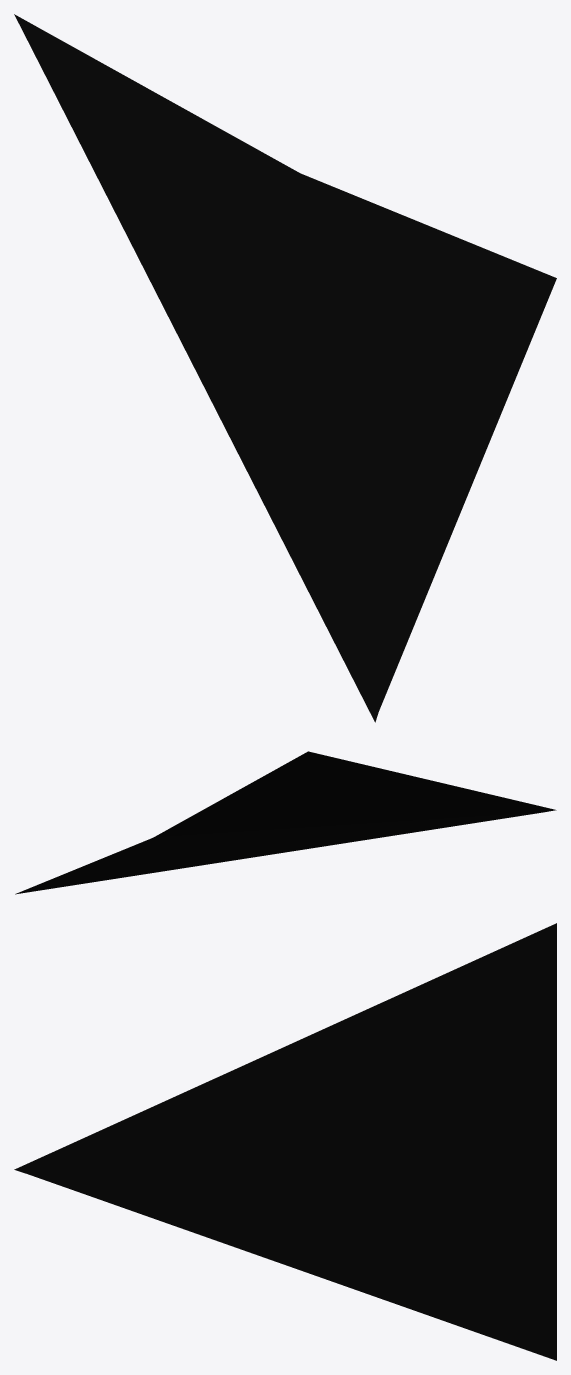
3 views of the same model, one above another, from view 1: azimuth 30°, elevation 25°; view 2: azimuth 150°, elevation 25°; view 3: azimuth 270°, elevation 25° (orthographic). The views are drawn at different scales.
Size of the model in its own units: 0.8673 by 0.5554 by 1.04.
Materials: 1 (1 with a texture image).
